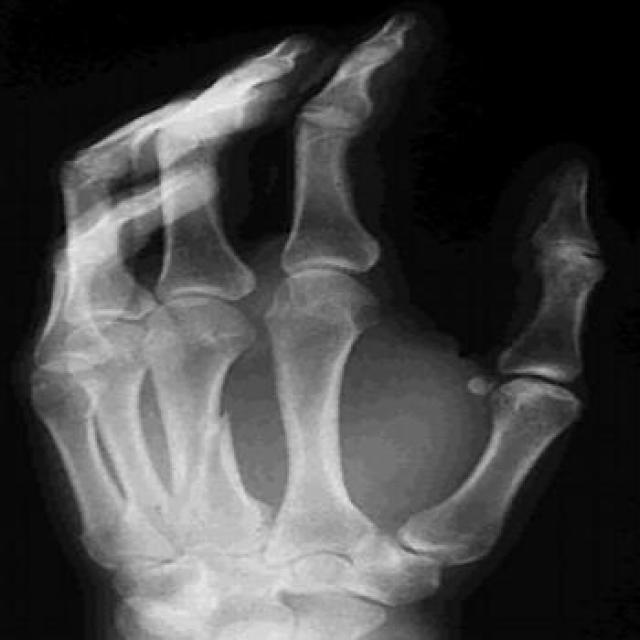Fracture: (165, 407, 245, 507)
